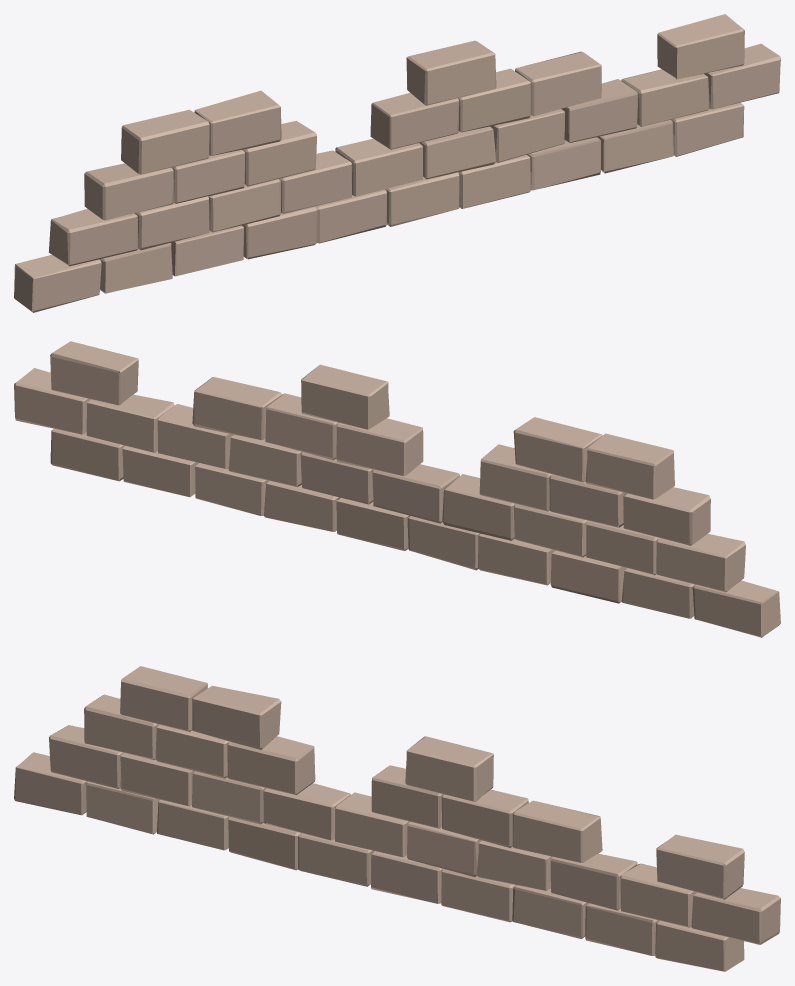
Rendered from BarrenWall3.fbx.
3 views of the same model, one above another, from view 1: azimuth 30°, elevation 25°; view 2: azimuth 150°, elevation 25°; view 3: azimuth 330°, elevation 25° (orthographic).
Parts seen in each view (by area): view 1: BarrenWall3; view 2: BarrenWall3; view 3: BarrenWall3.
Part boxes in pixels (<box>): BarrenWall3: <box>14,14,780,312</box>; BarrenWall3: <box>14,341,780,637</box>; BarrenWall3: <box>14,666,780,971</box>.
Bounding box in the file's own units: 20.99 × 1.05 × 4.03.
